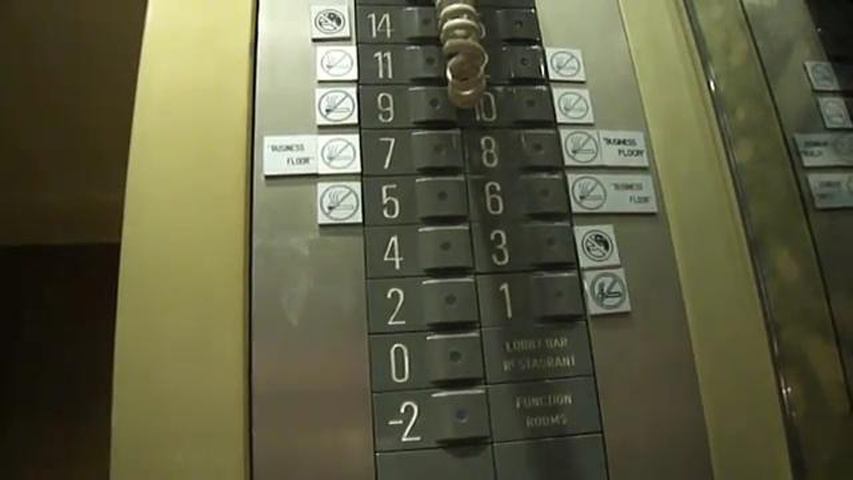-2: (370, 383, 492, 454)
0: (367, 329, 488, 393)
1: (474, 268, 587, 329)
10: (460, 84, 558, 128)
11: (354, 41, 458, 85)
14: (354, 1, 454, 44)
2: (362, 272, 481, 335)
3: (468, 220, 581, 274)
4: (360, 222, 476, 280)
5: (360, 172, 471, 227)
6: (463, 171, 569, 221)
7: (358, 127, 467, 176)
8: (461, 127, 567, 174)
9: (356, 83, 459, 130)
blur: (459, 41, 550, 83), (457, 5, 541, 44)
